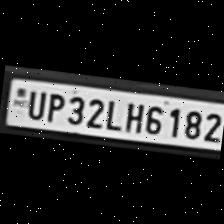1: (162, 104, 184, 138)
2: (82, 94, 106, 128), (198, 108, 222, 142)
3: (61, 90, 85, 126)
6: (140, 100, 165, 136)
8: (180, 106, 204, 140)
H: (119, 98, 144, 133)
L: (101, 96, 123, 130)
P: (42, 89, 66, 123)
U: (22, 86, 46, 119)
